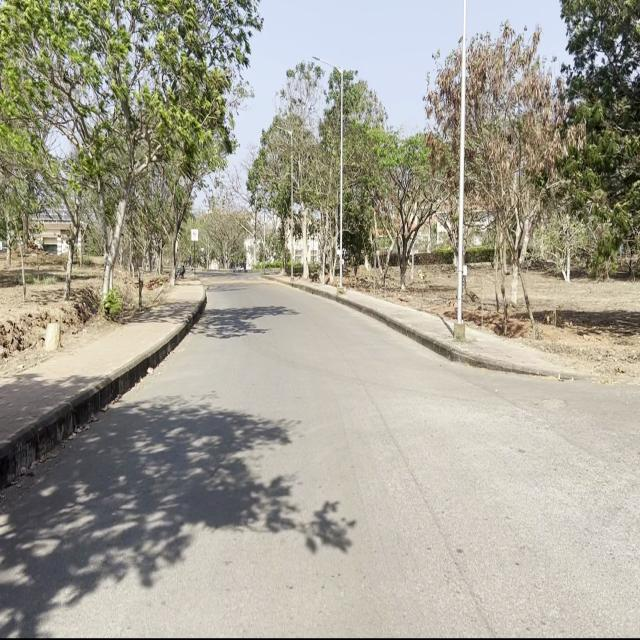Road: (4, 275, 637, 634)
